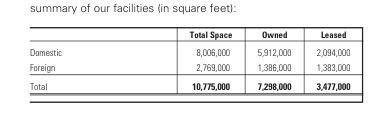table: (28, 28, 349, 91)
table column: (124, 28, 244, 91), (28, 28, 124, 91), (244, 28, 303, 91), (303, 28, 349, 91)
table column header: (28, 28, 349, 42)
table row: (28, 42, 349, 59), (28, 59, 349, 76), (28, 76, 349, 91), (28, 28, 349, 42)
